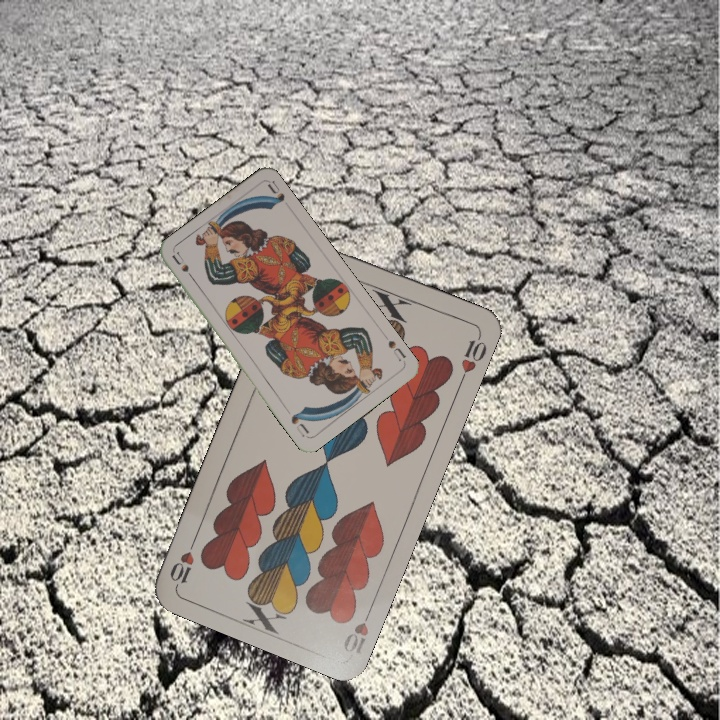H10: (339, 601, 378, 657)
SU: (168, 249, 199, 285), (384, 336, 408, 364)
